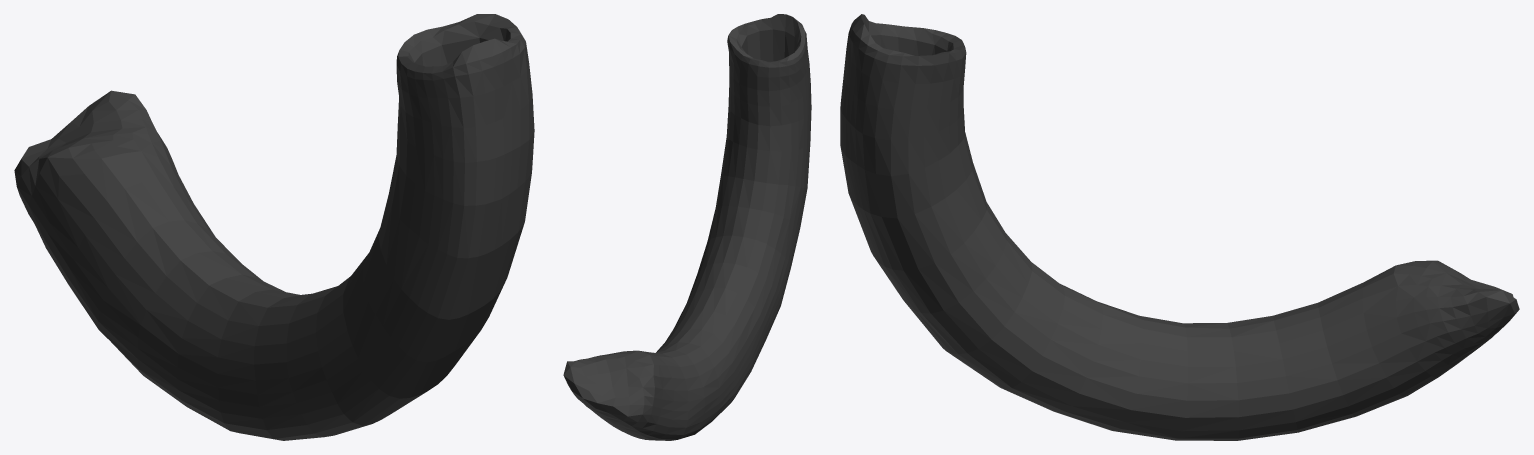
3 views of the same model, side by side, from view 1: azimuth 30°, elevation 25°; view 2: azimuth 150°, elevation 25°; view 3: azimuth 270°, elevation 25° (orthographic). The views are drawn at different scales.
Visible parts, largest first — view 1: world; view 2: world; view 3: world.
Part boxes in pixels (x1,y1,x2,y2): world: [14, 14, 534, 440]; world: [563, 14, 811, 440]; world: [840, 14, 1519, 440].
Size of the model in its own units: 0.1335 by 0.352 by 0.4904.
Materials: 1 (1 with a texture image).
